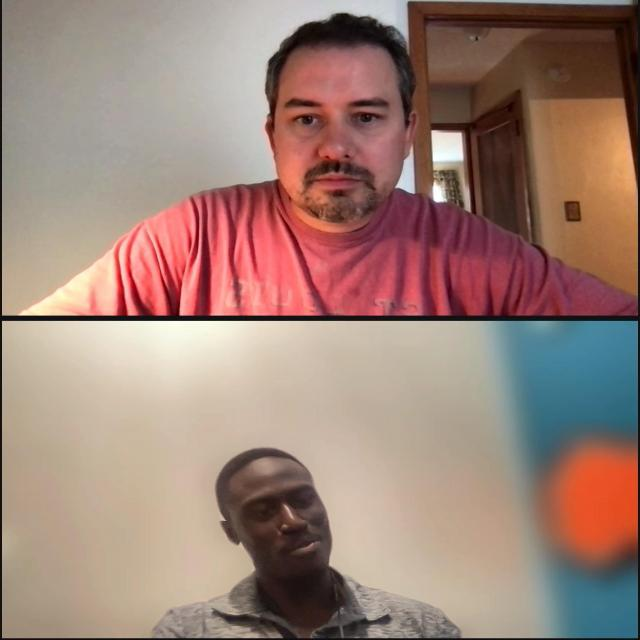face: (263, 39, 414, 225), (216, 448, 333, 585)
